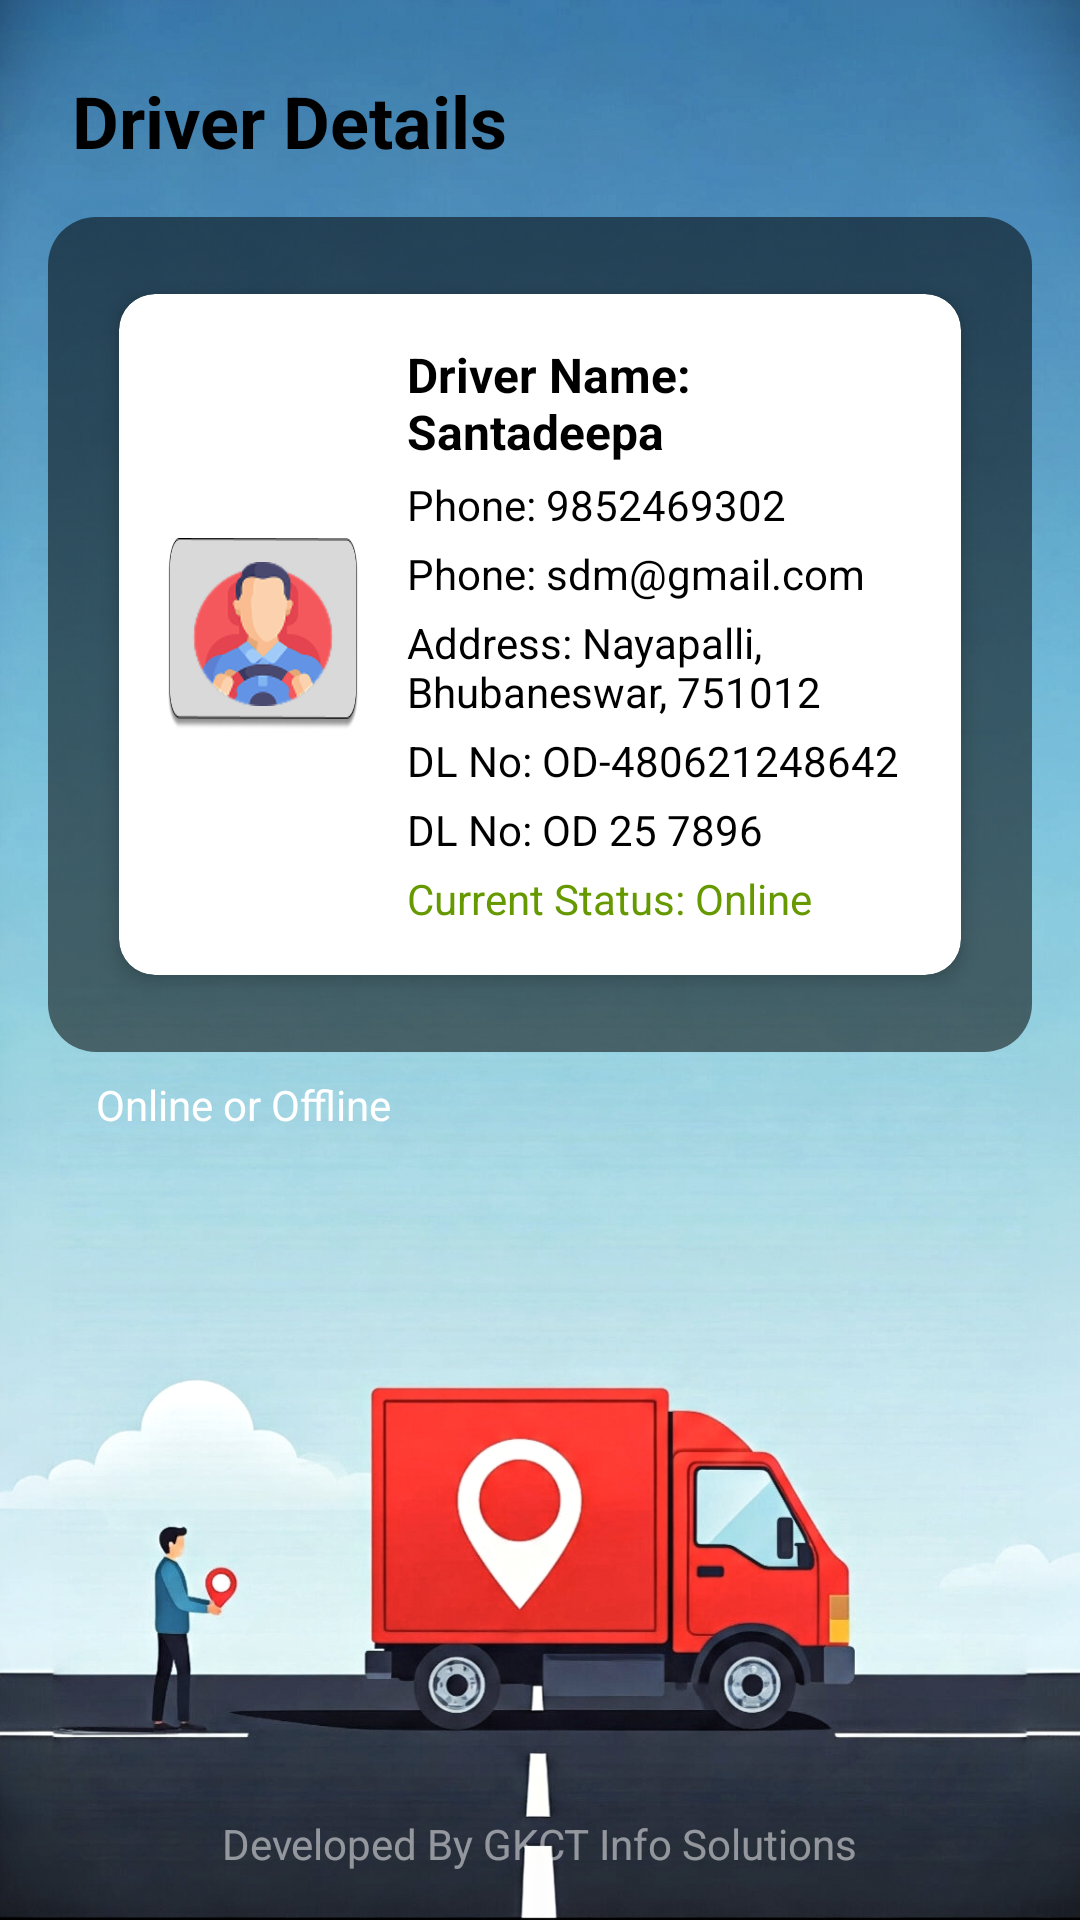

Locate icon controls on the screen. Image size 1080px x 1920px, boxes as [x1,y1,x2,y2].
Driver Avatar: [169,538,357,727]
